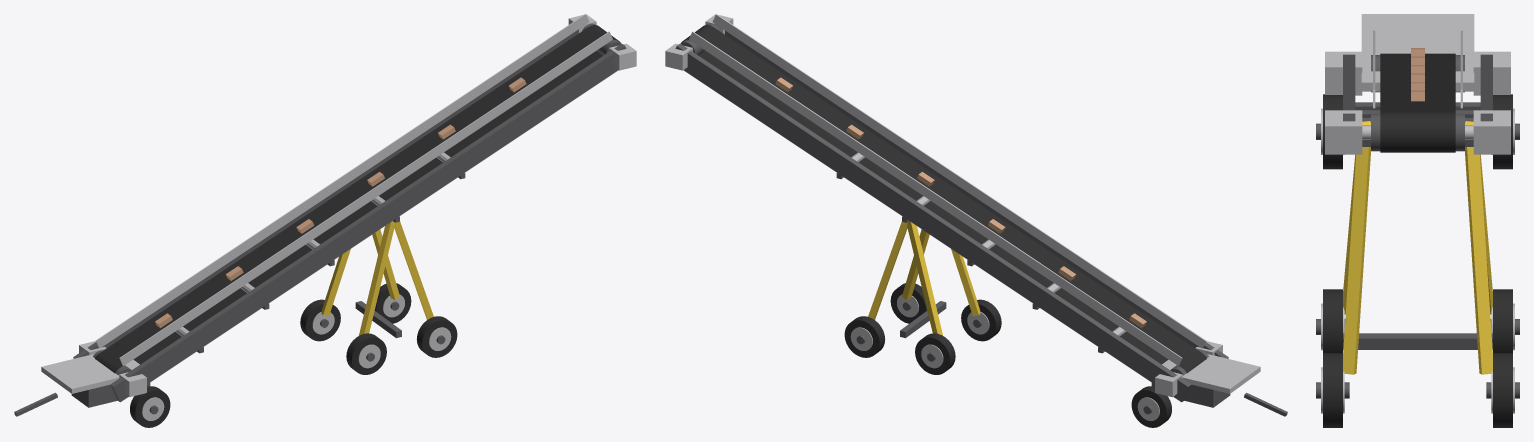
Rendered from SM_BrickConveyor.fbx.
The picture shows the model from 3 angles, left to right: view 1: azimuth 30°, elevation 25°; view 2: azimuth 150°, elevation 25°; view 3: azimuth 270°, elevation 25°; orthographic projection. The views are drawn at different scales.
Parts seen in each view (by area): view 1: BC_Undercarriage, BC_Structure, BC_Belt, BC_Wheel_MR, BC_Wheel_HR, BC_Wheel_TR, BC_Wheel_ML, BC_Wheel_HL, BC_Bricks_Load; view 2: BC_Undercarriage, BC_Structure, BC_Belt, BC_Wheel_ML, BC_Wheel_HL, BC_Wheel_TL, BC_Wheel_MR, BC_Wheel_HR, BC_Bricks_Load; view 3: BC_Undercarriage, BC_Structure, BC_Belt, BC_Wheel_HL, BC_Wheel_HR, BC_Wheel_ML, BC_Wheel_MR, BC_HeadPulley, BC_Wheel_TL, BC_Wheel_TR, BC_Bricks_Load, BC_TailPulley.
Boxes of the visible parts, box(x1,y1,x2,y2) form: BC_Undercarriage: box(14, 14, 612, 416); BC_Structure: box(73, 14, 636, 402); BC_Belt: box(95, 25, 620, 373); BC_Wheel_MR: box(346, 333, 386, 374); BC_Wheel_HR: box(416, 316, 457, 357); BC_Wheel_TR: box(130, 386, 170, 427); BC_Wheel_ML: box(300, 299, 340, 341); BC_Wheel_HL: box(374, 283, 411, 323); BC_Bricks_Load: box(155, 77, 526, 327); BC_Undercarriage: box(689, 14, 1287, 416); BC_Structure: box(665, 14, 1228, 402); BC_Belt: box(681, 25, 1206, 373); BC_Wheel_ML: box(915, 333, 955, 374); BC_Wheel_HL: box(844, 316, 885, 357); BC_Wheel_TL: box(1131, 386, 1171, 427); BC_Wheel_MR: box(961, 299, 1001, 341); BC_Wheel_HR: box(890, 283, 927, 323); BC_Bricks_Load: box(775, 77, 1146, 327); BC_Undercarriage: box(1343, 14, 1492, 374); BC_Structure: box(1325, 51, 1510, 154); BC_Belt: box(1380, 53, 1455, 152); BC_Wheel_HL: box(1486, 353, 1519, 427); BC_Wheel_HR: box(1316, 353, 1349, 427); BC_Wheel_ML: box(1490, 289, 1519, 352); BC_Wheel_MR: box(1316, 289, 1345, 352); BC_HeadPulley: box(1362, 114, 1473, 151); BC_Wheel_TL: box(1491, 94, 1519, 169); BC_Wheel_TR: box(1316, 94, 1344, 169); BC_Bricks_Load: box(1411, 48, 1424, 101); BC_TailPulley: box(1371, 55, 1464, 92).
Size of the model in its own units: 1017 by 441 by 163.
